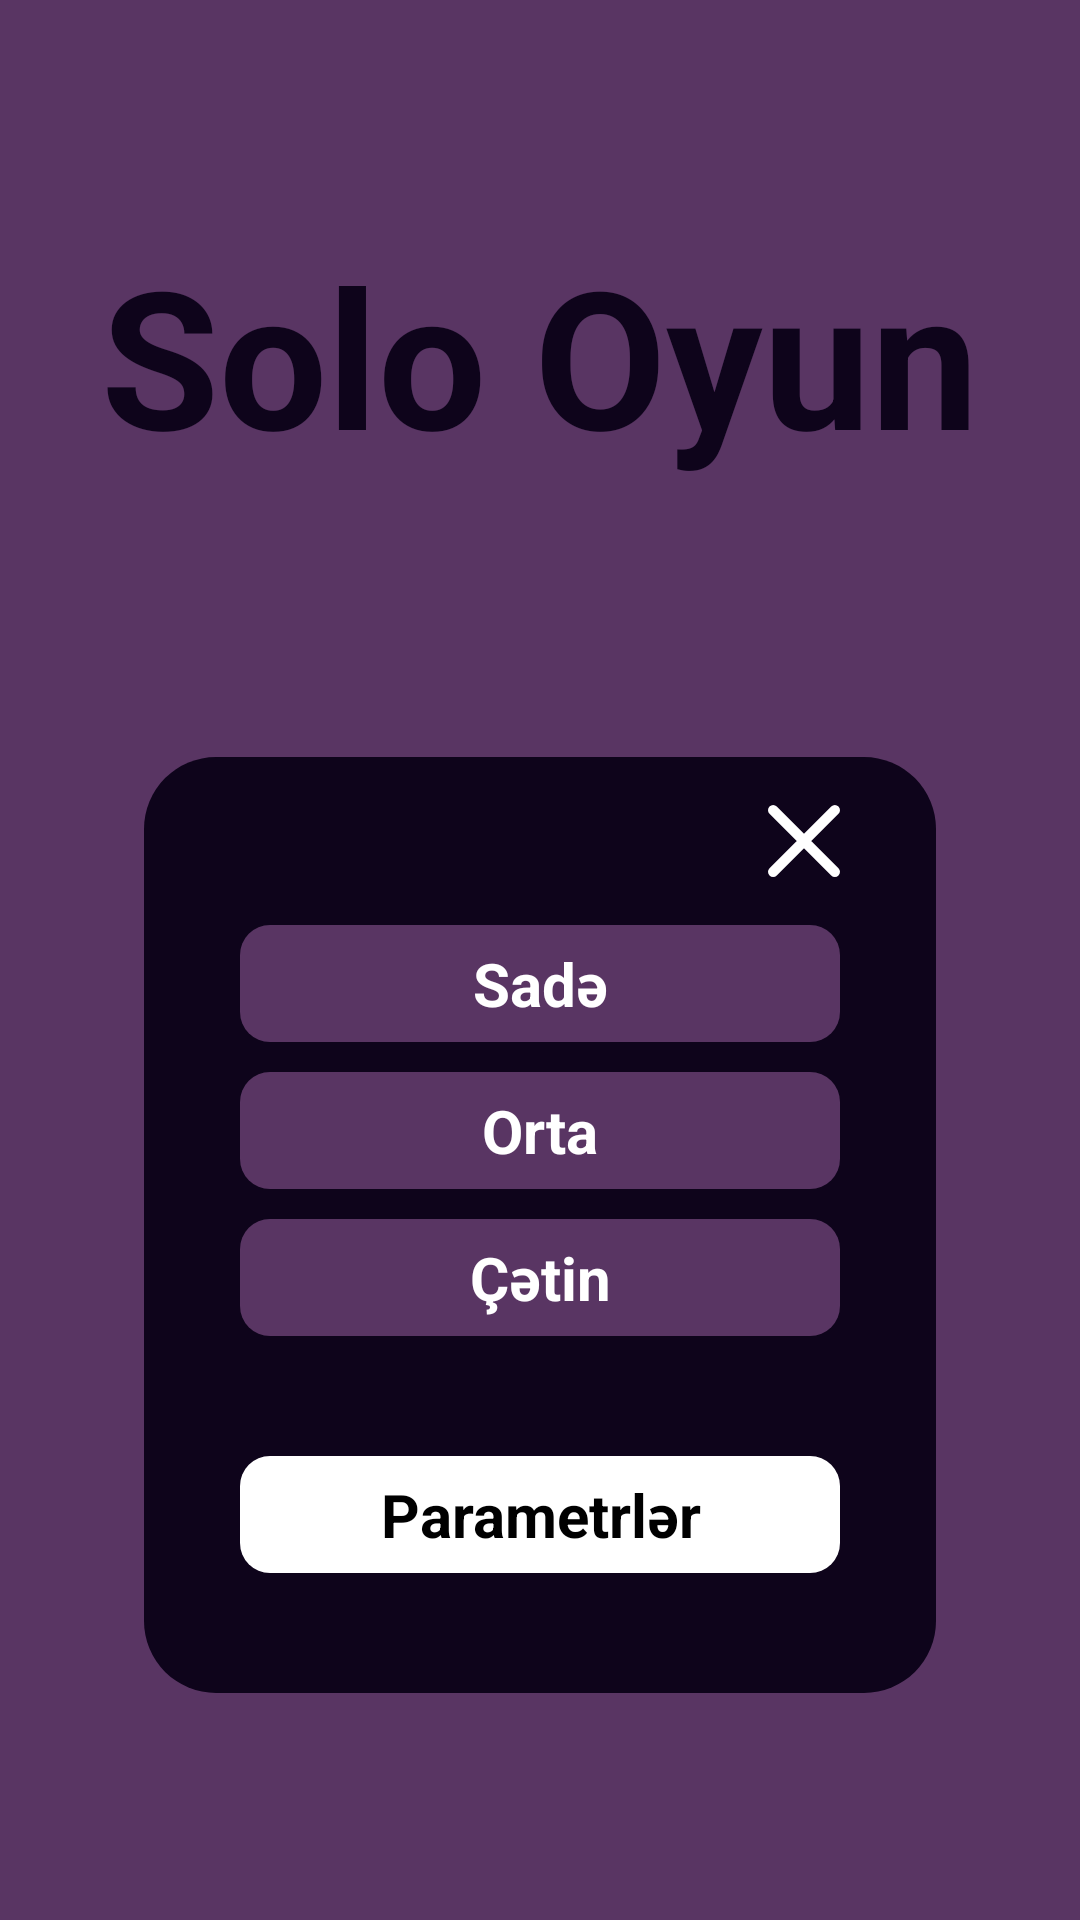

Screen size 1080x1920. Icon name, then its box in pixels as (x1, y1, x2, y2):
cancel: (768, 805, 840, 877)
